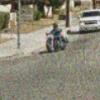cars: (79, 9, 100, 34)
motorcycles: (46, 30, 66, 52)
